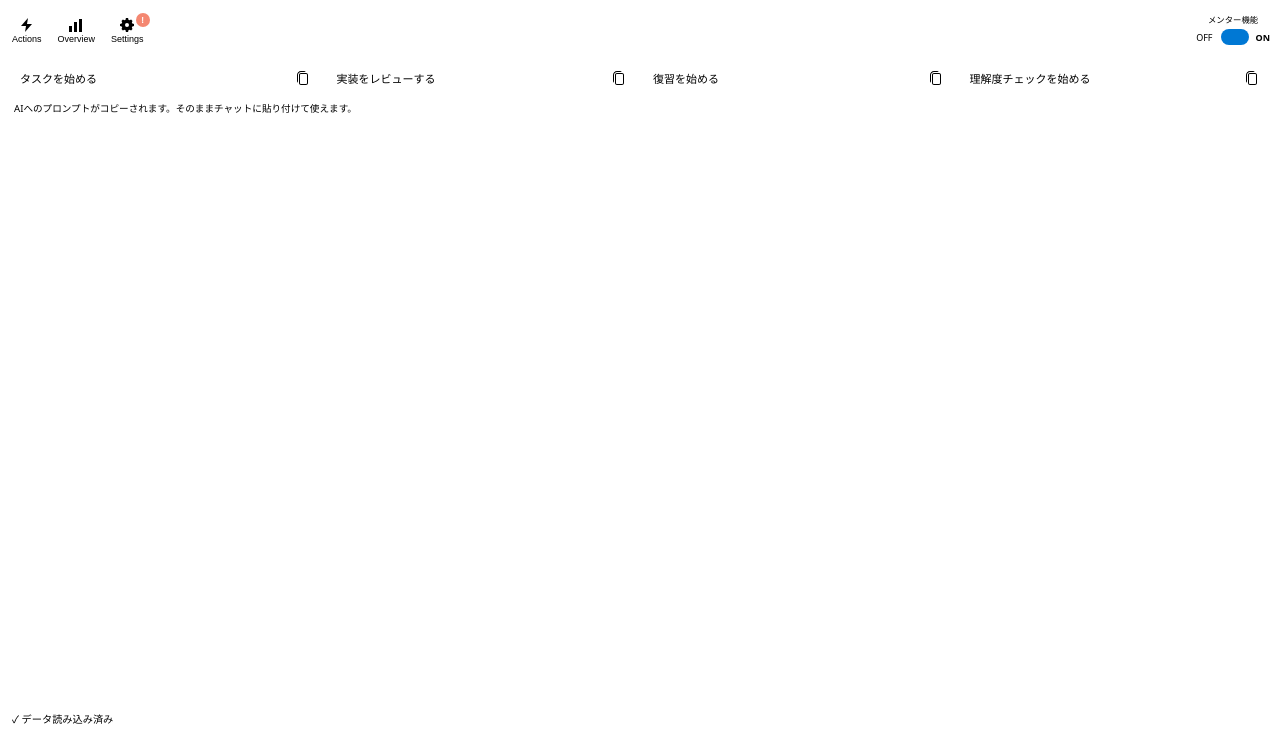
Test: App › shows error only for failed keys in partial failure deleteTopicsResult
Click the tab "Overview".
click(76, 32)  # box [50,12,103,52]
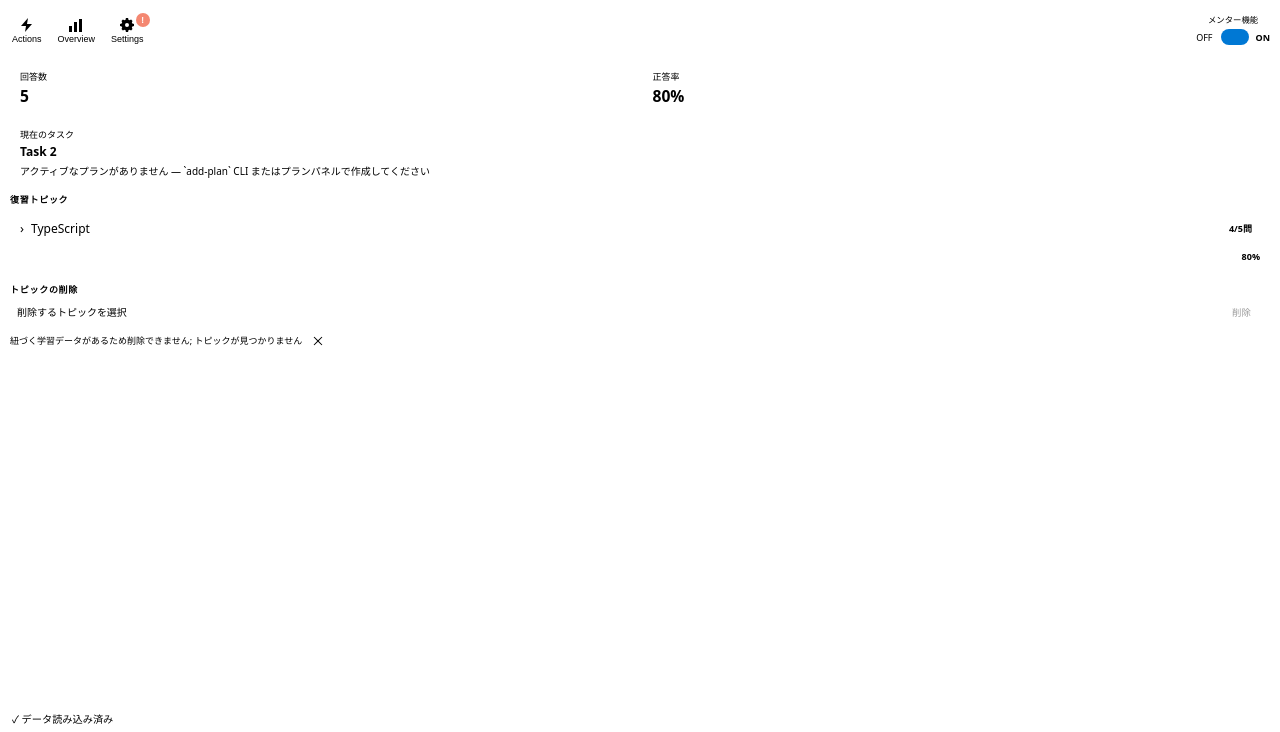
Expected: the text "紐づく学習データがあるため削除できません; トピックが見つかりません" is shown, [10,331,328,351]
